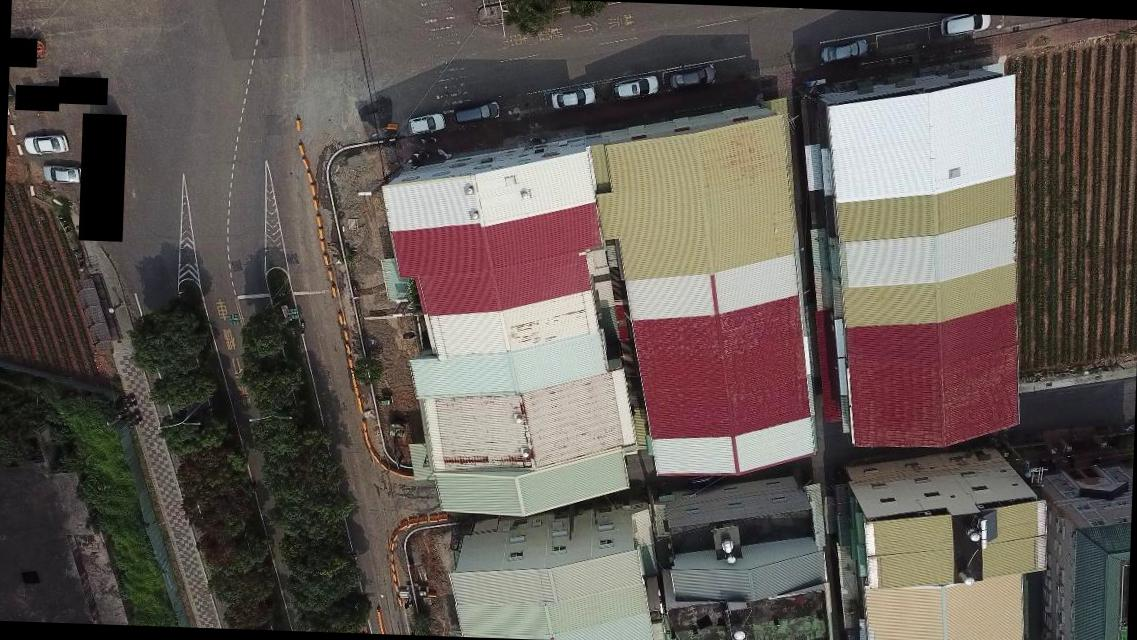vehicle: (612, 71, 660, 102), (938, 12, 993, 38), (820, 34, 867, 64), (670, 62, 716, 92), (24, 128, 70, 156), (452, 100, 500, 126), (550, 85, 596, 112), (407, 110, 448, 136), (42, 160, 84, 184)
